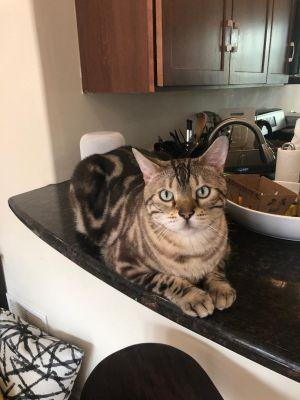bengal: (130, 131, 239, 243)
